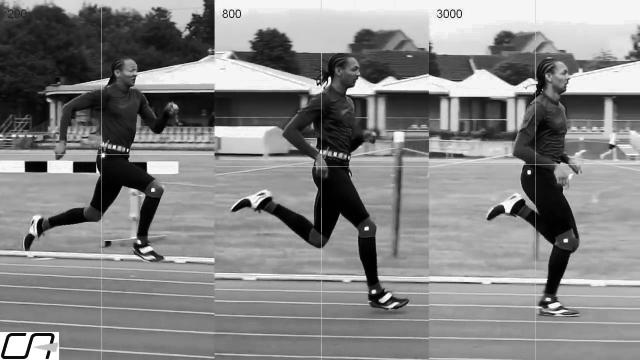berlari: (225, 41, 413, 321), (21, 48, 176, 272), (480, 49, 592, 323)
